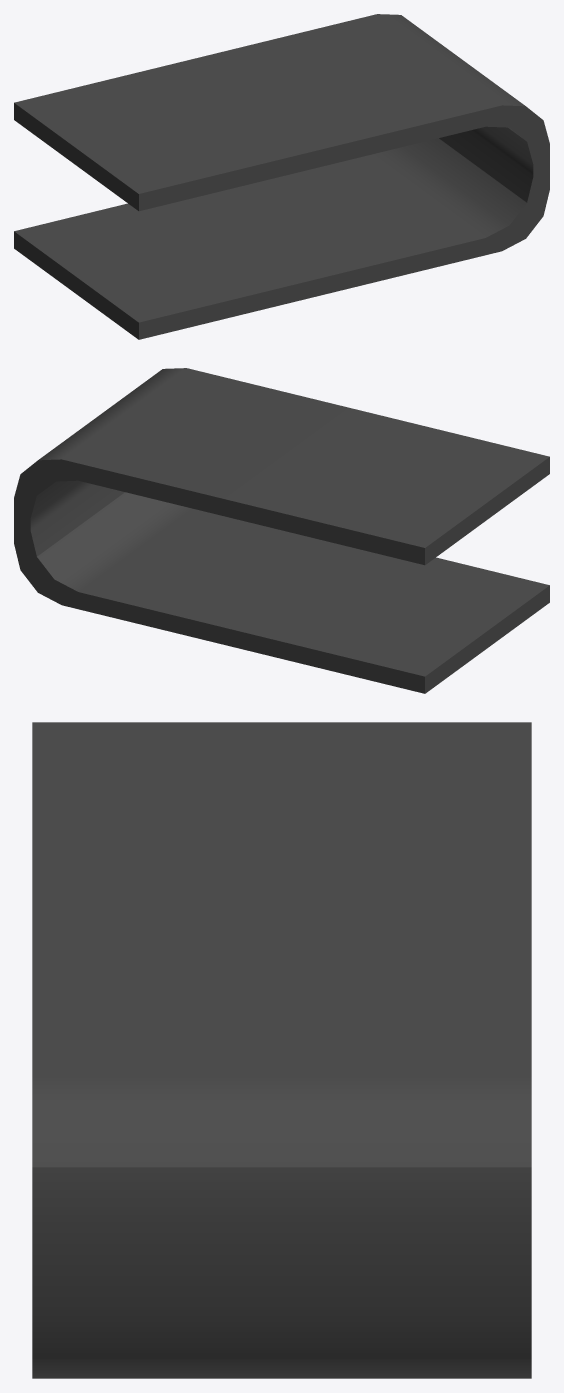
The model's file is CoffeeTable.fbx.
3 renders of one model, top to bottom at view 1: azimuth 30°, elevation 25°; view 2: azimuth 150°, elevation 25°; view 3: azimuth 270°, elevation 25°, orthographic. The views are drawn at different scales.
Visible parts, largest first — view 1: CoffeeTable_01; view 2: CoffeeTable_01; view 3: CoffeeTable_01.
Boxes of the visible parts, <box> form: CoffeeTable_01: <box>14,14,549,339</box>; CoffeeTable_01: <box>14,368,549,693</box>; CoffeeTable_01: <box>32,722,531,1378</box>.
Size of the model in its own units: 652 by 221 by 343.
